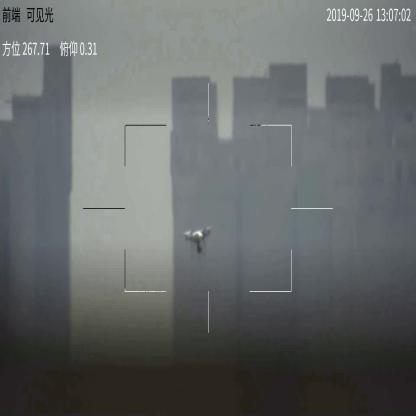uav: (177, 225, 214, 257)
